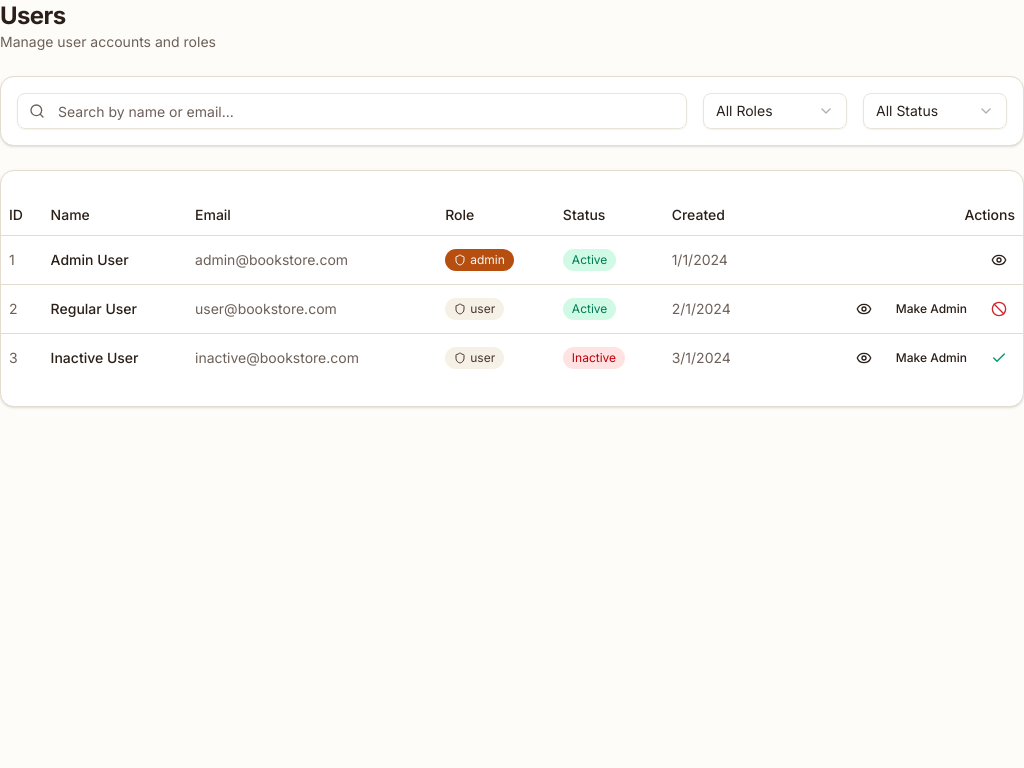
Test: UsersListPage › should open role update dialog
Check: the text "Regular User" is shown, box [43, 284, 187, 333]
Click the button "Make Admin" in the row of "Regular User" at (931, 308), box [884, 292, 979, 324]
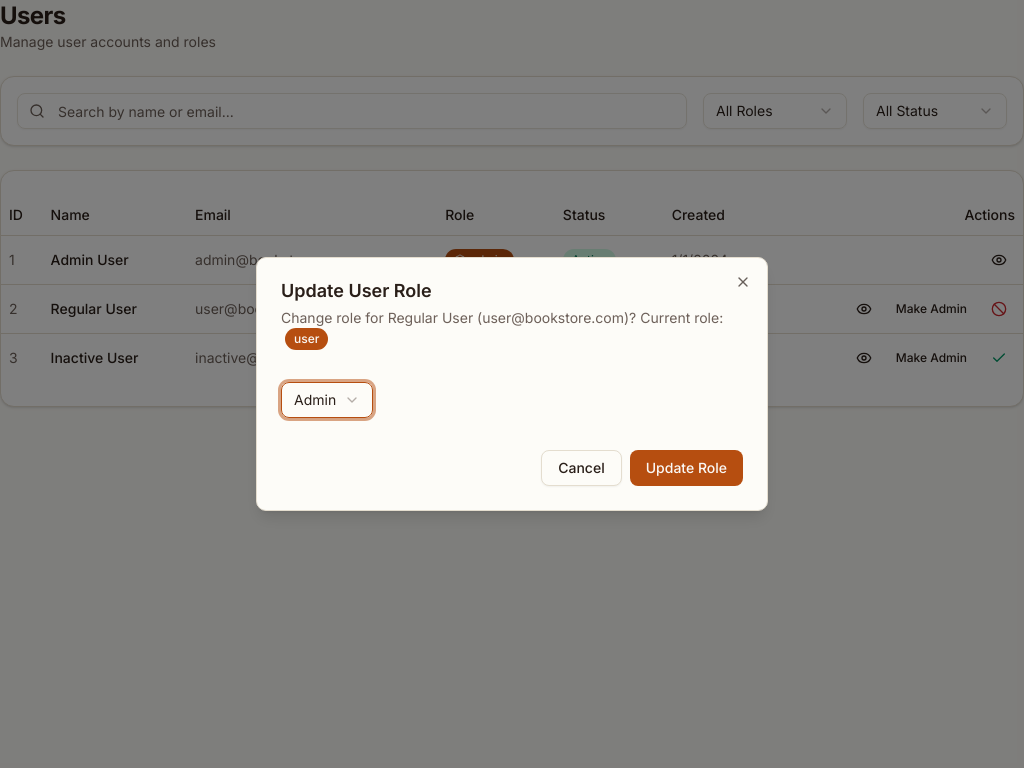
Check: the heading "Update User Role" is shown, box [281, 280, 432, 301]
